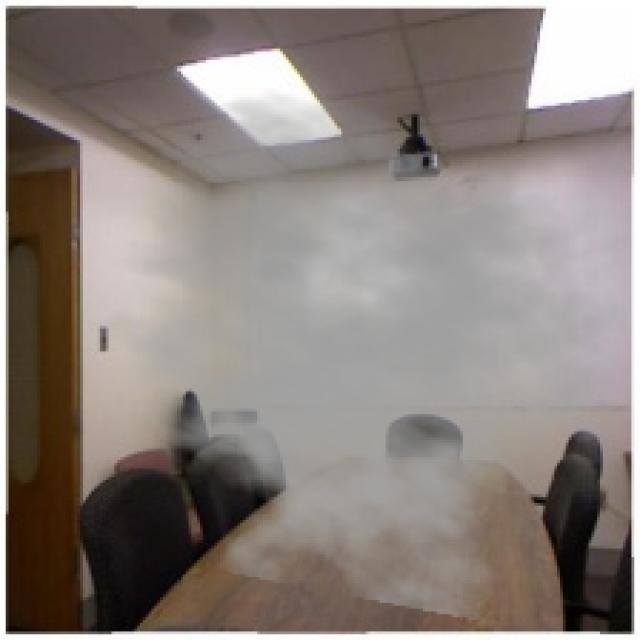smoke: (71, 88, 634, 623)
